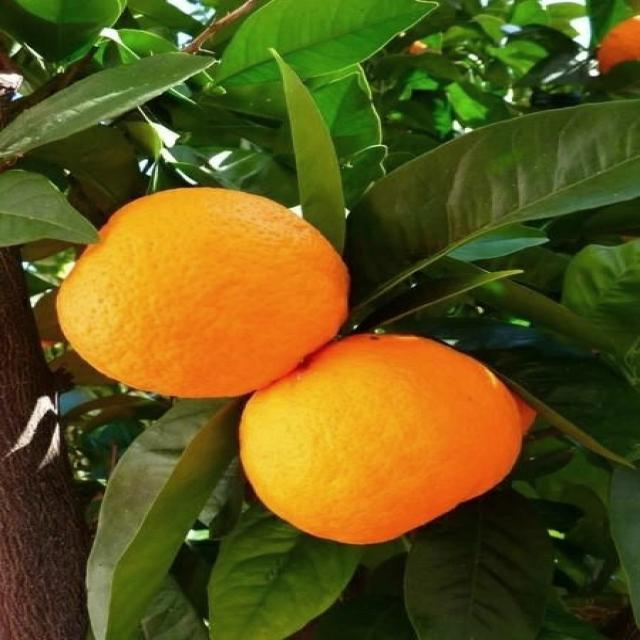Jeruk Sudah Matang: (59, 184, 348, 399), (240, 332, 525, 546), (596, 12, 640, 79)
